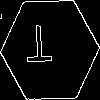T: (25, 25, 53, 72)
